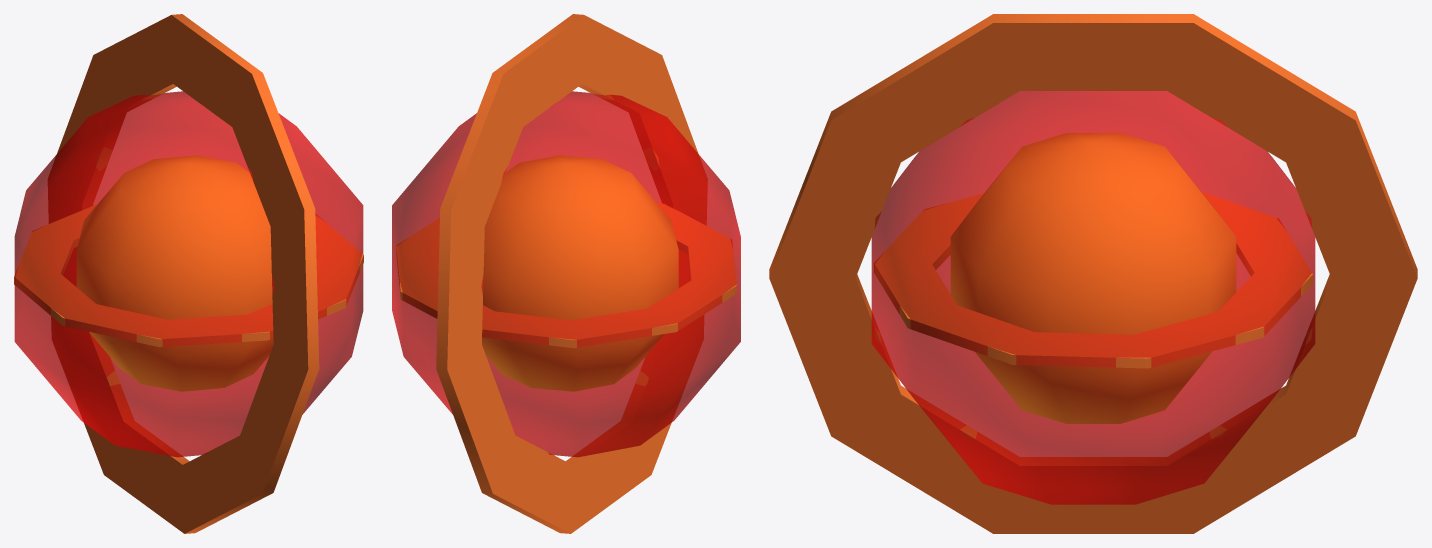
File: Enemy_Attack17.obj
3 views of the same model, side by side, from view 1: azimuth 30°, elevation 25°; view 2: azimuth 150°, elevation 25°; view 3: azimuth 270°, elevation 25° (orthographic). The views are drawn at different scales.
Parts seen in each view (by area): view 1: Sphere002, Tube001, Sphere001, Tube002; view 2: Sphere002, Tube001, Sphere001, Tube002; view 3: Sphere002, Tube001, Sphere001, Tube002.
Boxes of the visible parts, bbox=[...] form: Sphere002: bbox=[14, 91, 363, 457]; Tube001: bbox=[48, 14, 319, 533]; Sphere001: bbox=[76, 155, 273, 391]; Tube002: bbox=[14, 204, 363, 347]; Sphere002: bbox=[392, 91, 740, 457]; Tube001: bbox=[436, 14, 707, 533]; Sphere001: bbox=[482, 155, 678, 391]; Tube002: bbox=[396, 202, 736, 348]; Sphere002: bbox=[871, 91, 1315, 504]; Tube001: bbox=[769, 14, 1417, 533]; Sphere001: bbox=[950, 133, 1236, 423]; Tube002: bbox=[874, 192, 1312, 368].
Size of the model in its own units: 20.85 by 29.93 by 31.73.
